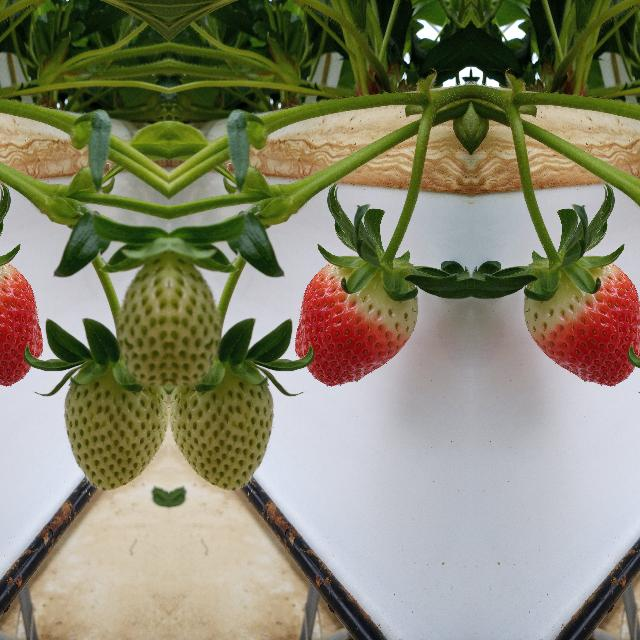Health_100: (292, 263, 418, 387), (523, 263, 640, 387), (0, 263, 43, 387)
Health_25: (168, 356, 276, 494), (60, 356, 168, 494), (168, 233, 226, 383), (110, 233, 168, 383)
